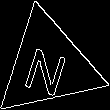N_N: (22, 35, 74, 95)
